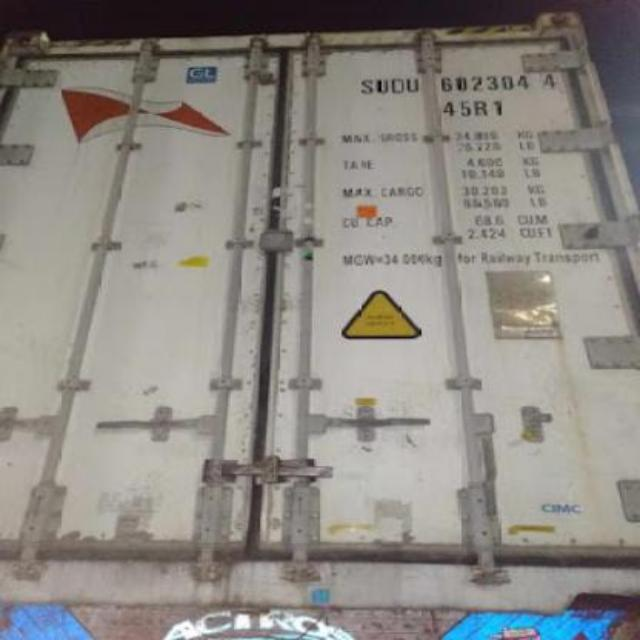0: (454, 66, 468, 94), (501, 68, 514, 92)
2: (468, 70, 484, 92)
3: (486, 72, 498, 92)
4: (514, 66, 528, 90), (542, 72, 558, 90)
6: (441, 74, 454, 95)
D: (391, 77, 404, 97)
S: (361, 74, 374, 98)
U: (404, 74, 420, 96), (374, 74, 388, 96)
